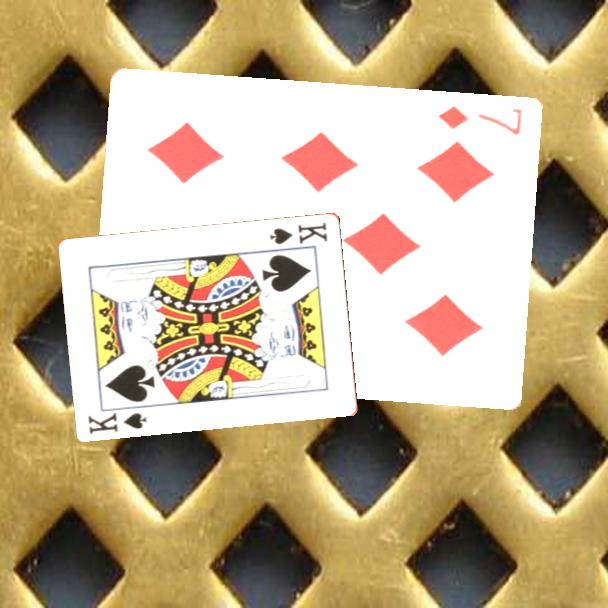d07: (435, 102, 526, 138)
s13: (85, 409, 150, 437), (267, 219, 331, 247)
